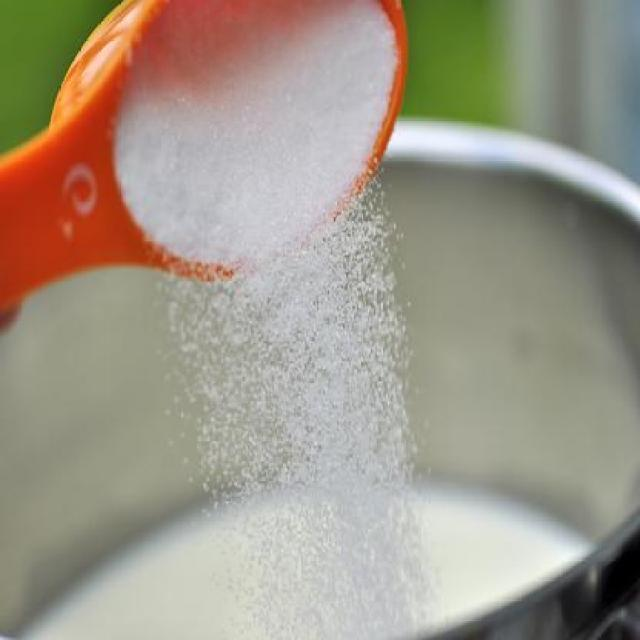Milk: (16, 470, 596, 639)
